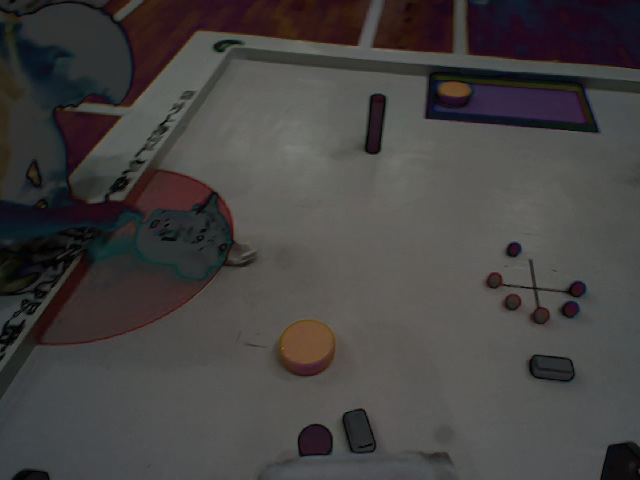black: (339, 409, 377, 453), (529, 353, 576, 383)
kuang: (274, 319, 339, 375), (433, 82, 474, 105)
zhuzi: (357, 91, 388, 155)
